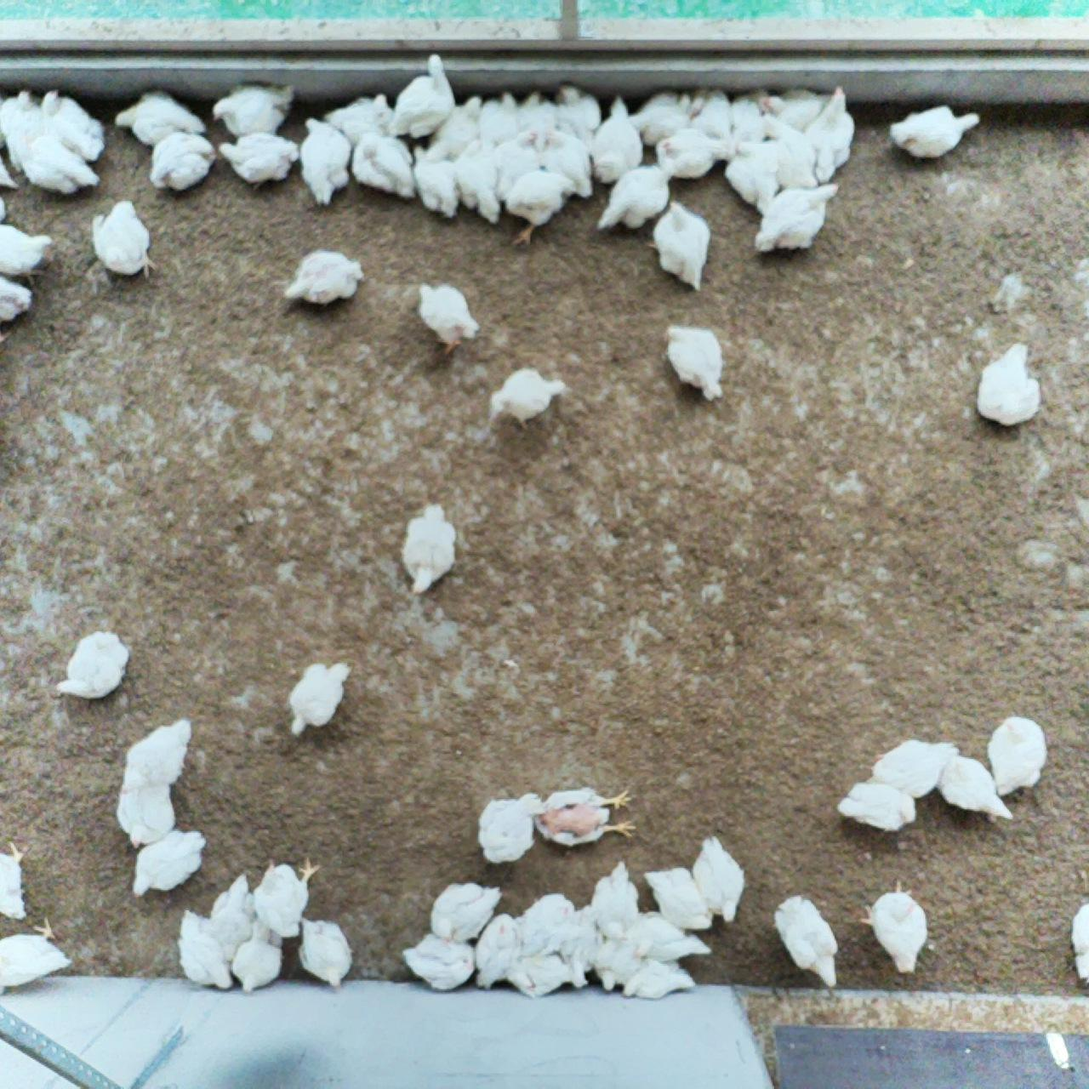chicken: (857, 876, 933, 980), (769, 891, 847, 992), (641, 197, 715, 297), (971, 338, 1048, 434), (750, 180, 842, 259), (532, 784, 639, 851), (393, 500, 461, 600), (249, 851, 323, 941), (980, 711, 1053, 802), (117, 715, 198, 796), (86, 198, 161, 285), (10, 129, 103, 199), (386, 49, 458, 139), (0, 916, 76, 1001), (499, 167, 576, 250), (127, 828, 212, 903), (862, 736, 964, 797), (934, 753, 1018, 827), (109, 86, 209, 148), (658, 317, 726, 407), (639, 862, 718, 939), (56, 627, 135, 704), (887, 102, 984, 164), (412, 276, 483, 359), (586, 92, 647, 187), (287, 656, 354, 742), (835, 777, 925, 841), (475, 787, 547, 867), (425, 879, 507, 949), (37, 83, 107, 165), (690, 831, 749, 928), (488, 363, 573, 430), (281, 244, 366, 311), (593, 165, 674, 235), (208, 77, 298, 140), (174, 906, 237, 995), (297, 113, 355, 208), (803, 83, 858, 183), (106, 780, 182, 851), (293, 908, 356, 993), (397, 932, 479, 995), (208, 869, 260, 968), (216, 130, 301, 190), (146, 127, 217, 198), (352, 129, 419, 200), (588, 856, 642, 942), (761, 112, 817, 191), (455, 136, 503, 227), (721, 138, 777, 215), (654, 129, 735, 182), (408, 142, 461, 222), (426, 90, 483, 163), (540, 123, 594, 198), (472, 910, 521, 992), (230, 927, 286, 998), (319, 87, 395, 139), (632, 912, 711, 962), (0, 221, 57, 289), (551, 79, 604, 150), (507, 952, 590, 997), (759, 84, 835, 132), (515, 889, 576, 947), (494, 130, 541, 204), (629, 88, 692, 143), (547, 904, 604, 963), (621, 960, 696, 1003), (726, 83, 771, 154), (0, 837, 37, 922), (592, 938, 642, 996), (687, 84, 733, 143), (1062, 895, 1089, 984), (478, 90, 519, 148), (0, 87, 41, 144), (513, 87, 557, 134), (0, 276, 37, 324)
